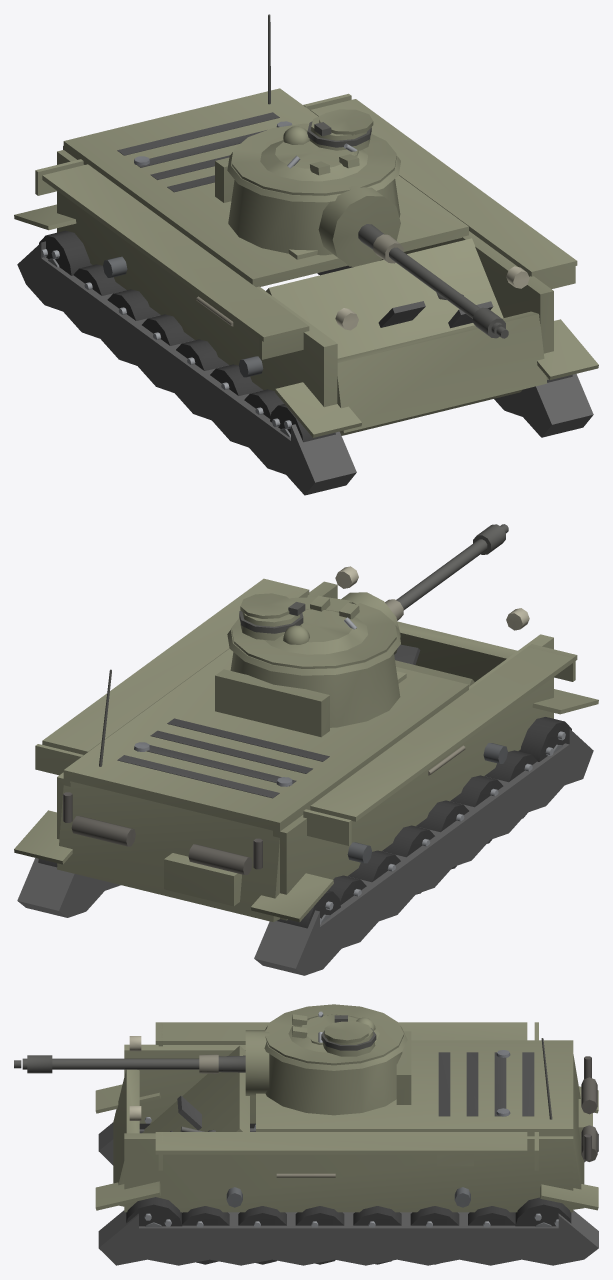
The model's file is t1heavy.glb.
3 renders of one model, top to bottom at view 1: azimuth 30°, elevation 25°; view 2: azimuth 150°, elevation 25°; view 3: azimuth 270°, elevation 25°, orthographic. The views are drawn at different scales.
Parts seen in each view (by area): view 1: hullSide, tracks, hullTop, glacis, lowerPlate, turretRoof, turretFront, mantlet, barrel, wheel7, turretSide, wheel1 (+7 smaller); view 2: hullSide, hullTop, tracks, hullRear, turretRoof, turretFront, turretRear, lowerPlate, barrel, turretSide, wheel6, glacis (+8 smaller); view 3: hullSide, tracks, hullTop, turretRoof, turretFront, glacis, barrel, hullRear, lowerPlate, mantlet, wheel14, wheel15 (+8 smaller).
Boxes of the visible parts, box(x1,y1,x2,y2) form: hullSide: box(35, 93, 577, 407); tracks: box(14, 204, 598, 495); hullTop: box(63, 88, 468, 287); glacis: box(266, 238, 522, 435); lowerPlate: box(337, 311, 547, 432); turretRoof: box(231, 109, 396, 195); turretFront: box(228, 179, 400, 255); mantlet: box(318, 185, 400, 266); barrel: box(358, 224, 508, 338); wheel7: box(39, 230, 92, 275); turretSide: box(227, 151, 400, 202); wheel1: box(107, 289, 160, 320); hullSide: box(35, 566, 577, 920); hullTop: box(63, 648, 468, 832); tracks: box(14, 689, 598, 975); hullRear: box(57, 669, 281, 922); turretRoof: box(231, 593, 396, 668); turretFront: box(230, 652, 400, 727); turretRear: box(215, 669, 329, 737); lowerPlate: box(397, 621, 517, 681); barrel: box(385, 524, 508, 620); turretSide: box(227, 625, 400, 675); wheel6: box(518, 717, 571, 761); glacis: box(394, 644, 474, 686); hullSide: box(124, 1022, 573, 1212); tracks: box(95, 1084, 598, 1265); hullTop: box(256, 1040, 573, 1136); turretRoof: box(265, 1004, 403, 1065); turretFront: box(265, 1052, 402, 1115); glacis: box(142, 1045, 249, 1133); barrel: box(14, 1054, 245, 1073); hullRear: box(541, 1038, 597, 1209); lowerPlate: box(113, 1069, 139, 1206); mantlet: box(245, 1030, 269, 1095); wheel14: box(126, 1197, 182, 1227); wheel15: box(515, 1197, 571, 1227).
Size of the model in its own units: 4.13 by 3.07 by 7.95.
